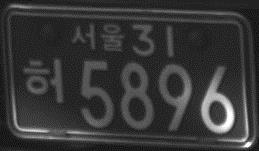1: (163, 23, 178, 59)
3: (130, 21, 156, 55)
5: (78, 57, 115, 128)
6: (201, 63, 236, 134)
8: (119, 61, 156, 131)
9: (156, 61, 192, 132)
서울_O: (71, 21, 125, 53)
허: (21, 57, 64, 106)
